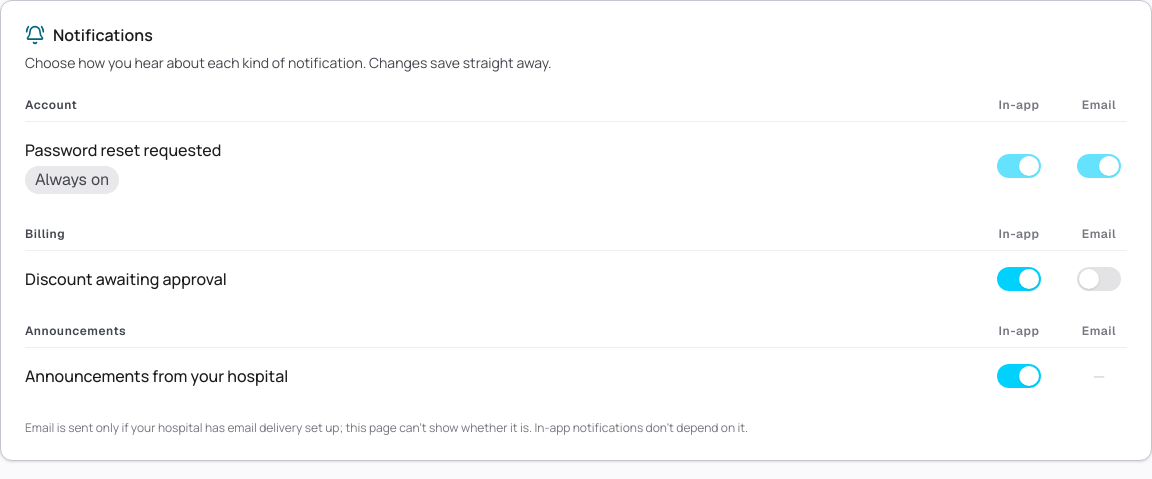
Test: NotificationPreferencesCard › holds every switch while one change is being saved
Click the switch named "Discount awaiting approval: Email" at (1099, 279), box [1077,267,1121,291]
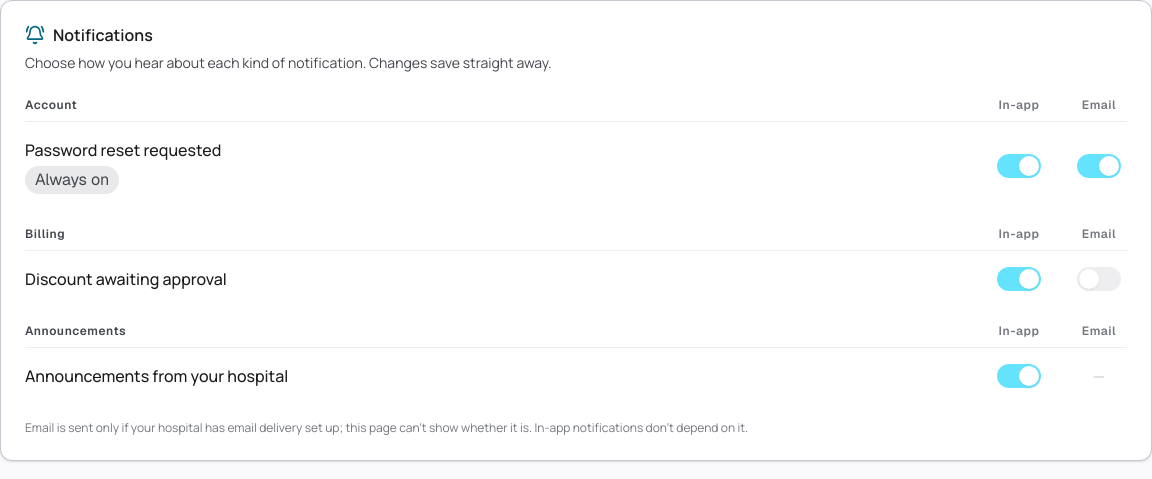
Expected: the switch named "Announcements from your hospital: In-app" is disabled, [997,364,1041,388]
Click the switch named "Discount awaiting approval: Email" at (1099, 279), box [1077,267,1121,291]
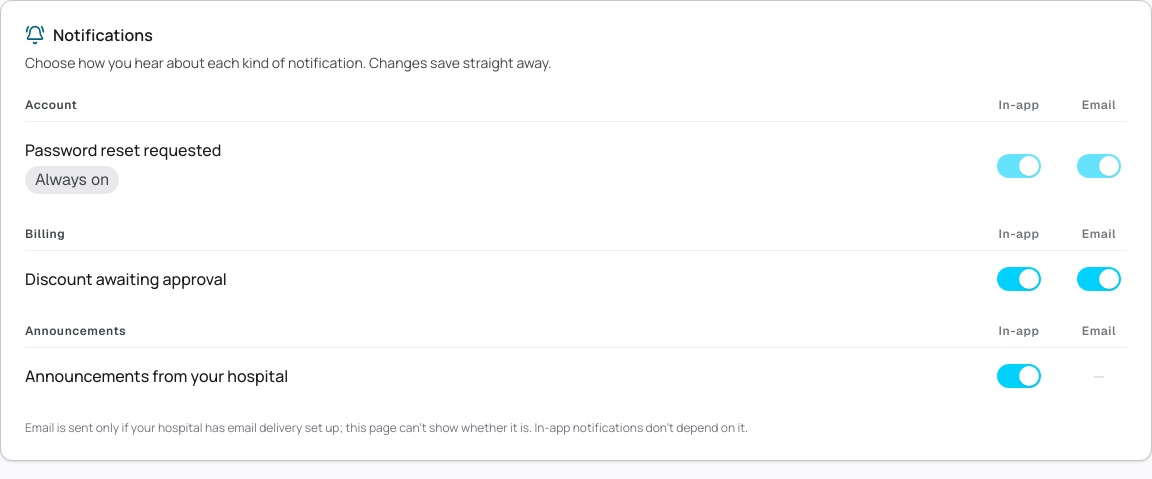
Expected: the switch named "Discount awaiting approval: Email" is checked, [1077,267,1121,291]
Expected: the switch named "Discount awaiting approval: Email" is enabled, [1077,267,1121,291]
